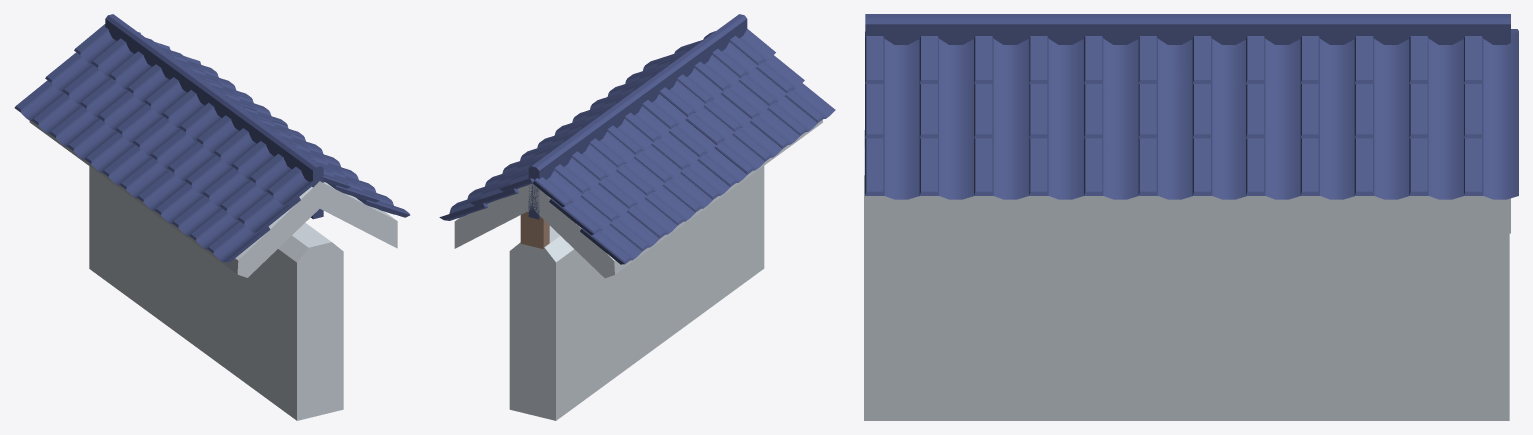
File: WallShort.fbx
3 renders of one model, left to right at view 1: azimuth 30°, elevation 25°; view 2: azimuth 150°, elevation 25°; view 3: azimuth 270°, elevation 25°, orthographic. The views are drawn at different scales.
Visible parts, largest first — view 1: pCube267; view 2: pCube267; view 3: pCube267.
Part boxes in pixels (<box>): pCube267: <box>14,14,410,420</box>; pCube267: <box>439,14,835,420</box>; pCube267: <box>864,14,1518,420</box>.
Bounding box in the file's own units: 2.48 × 3.17 × 4.87.
